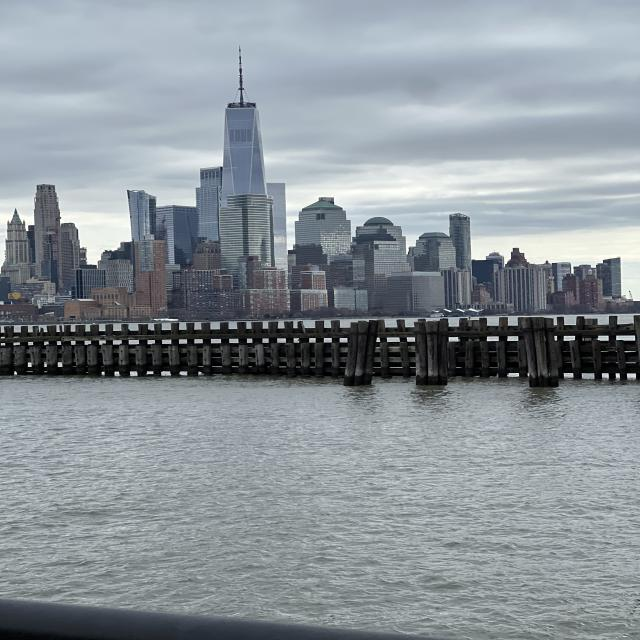WTC: (220, 46, 269, 195)
